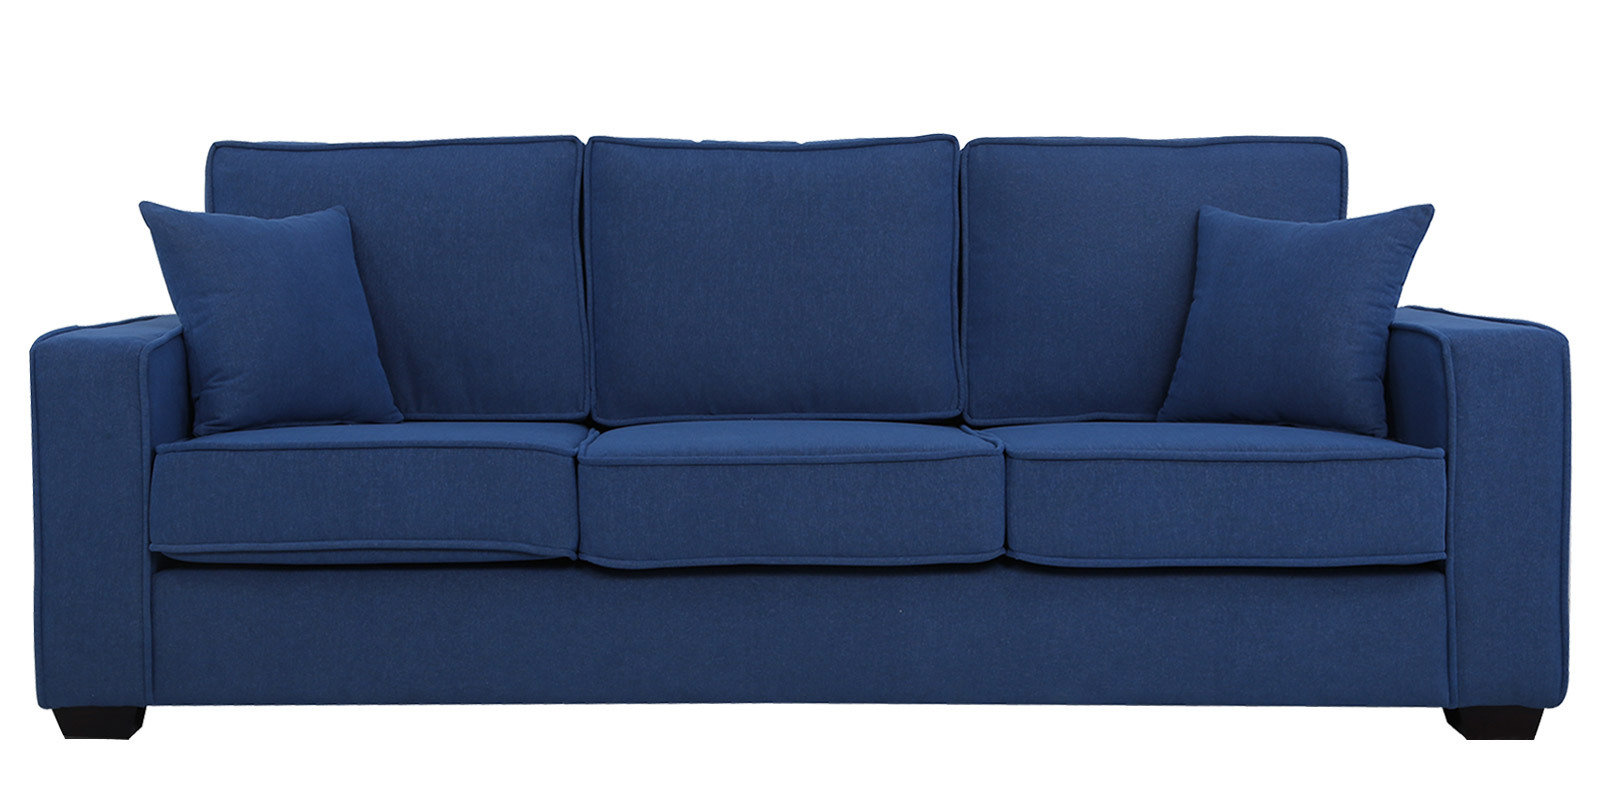Hugo Three Seater Sofa in Denim Blue Colour by CasaCraft: (21, 129, 1597, 761)
